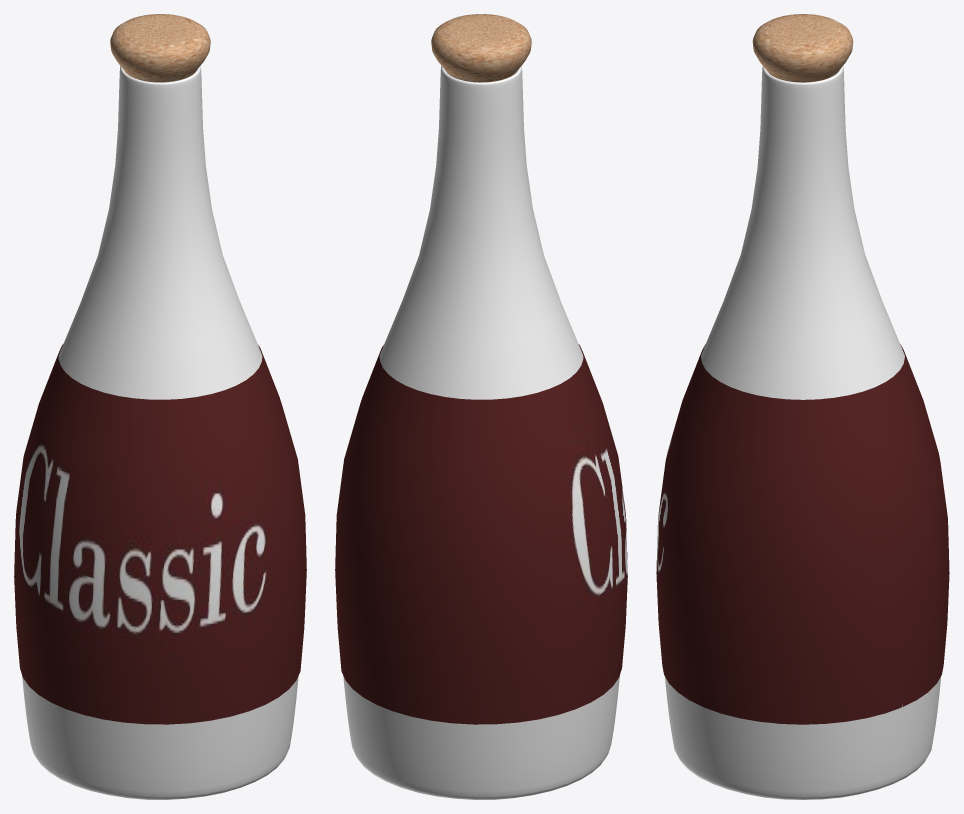
Rendered from Classic.fbx.
3 views of the same model, side by side, from view 1: azimuth 30°, elevation 25°; view 2: azimuth 150°, elevation 25°; view 3: azimuth 270°, elevation 25° (orthographic).
Visible parts, largest first — view 1: Label, Classic, Cork; view 2: Label, Classic, Cork; view 3: Label, Classic, Cork.
Part boxes in pixels (x1=…): Label: x1=14, y1=344, x2=306, y2=724; Classic: x1=22, y1=66, x2=298, y2=799; Cork: x1=110, y1=14, x2=210, y2=82; Label: x1=335, y1=344, x2=627, y2=724; Classic: x1=343, y1=66, x2=619, y2=799; Cork: x1=431, y1=14, x2=531, y2=82; Label: x1=656, y1=344, x2=949, y2=724; Classic: x1=664, y1=66, x2=941, y2=799; Cork: x1=752, y1=14, x2=853, y2=82.
Bounding box in the file's own units: 0.3109 × 0.8436 × 0.3106.
